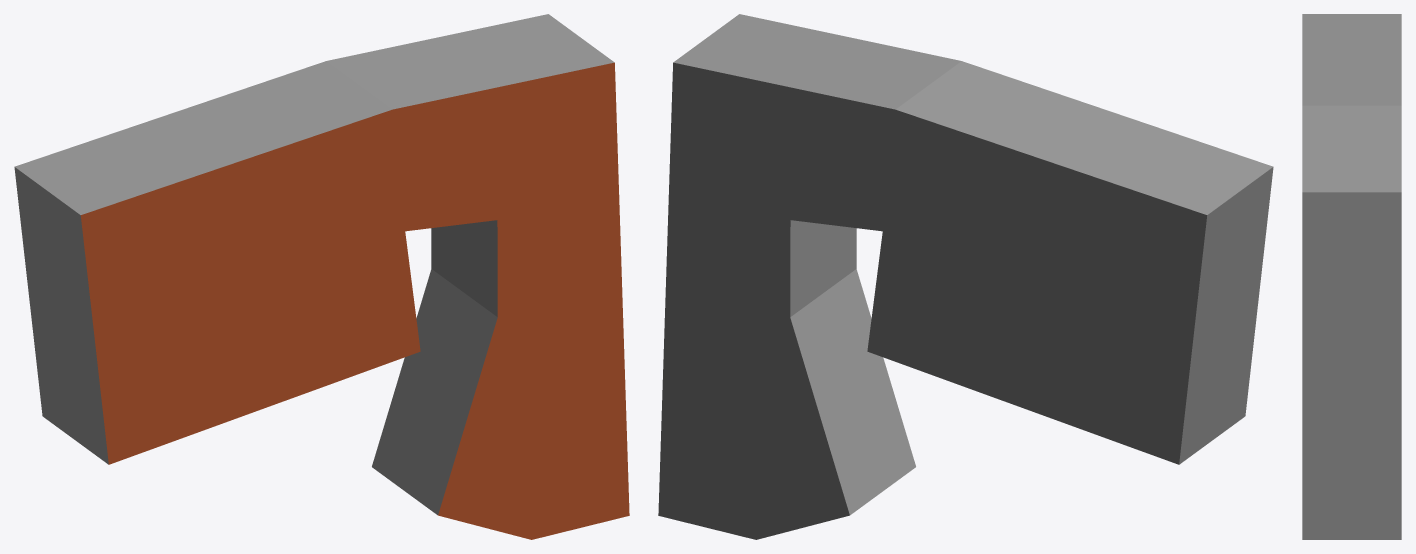
The model's file is construction_5803_assumed_A_Casa_h6m.obj.
The picture shows the model from 3 angles, left to right: view 1: azimuth 30°, elevation 25°; view 2: azimuth 150°, elevation 25°; view 3: azimuth 270°, elevation 25°; orthographic projection. The views are drawn at different scales.
Visible parts, largest first — view 1: construction_5803_assumed_A_Casa; view 2: construction_5803_assumed_A_Casa; view 3: construction_5803_assumed_A_Casa.
Boxes of the visible parts, x1,y1,x2,y2 form: construction_5803_assumed_A_Casa: [14, 14, 629, 539]; construction_5803_assumed_A_Casa: [658, 14, 1273, 539]; construction_5803_assumed_A_Casa: [1302, 14, 1401, 539].
Size of the model in its own units: 28.66 by 23.17 by 6.
